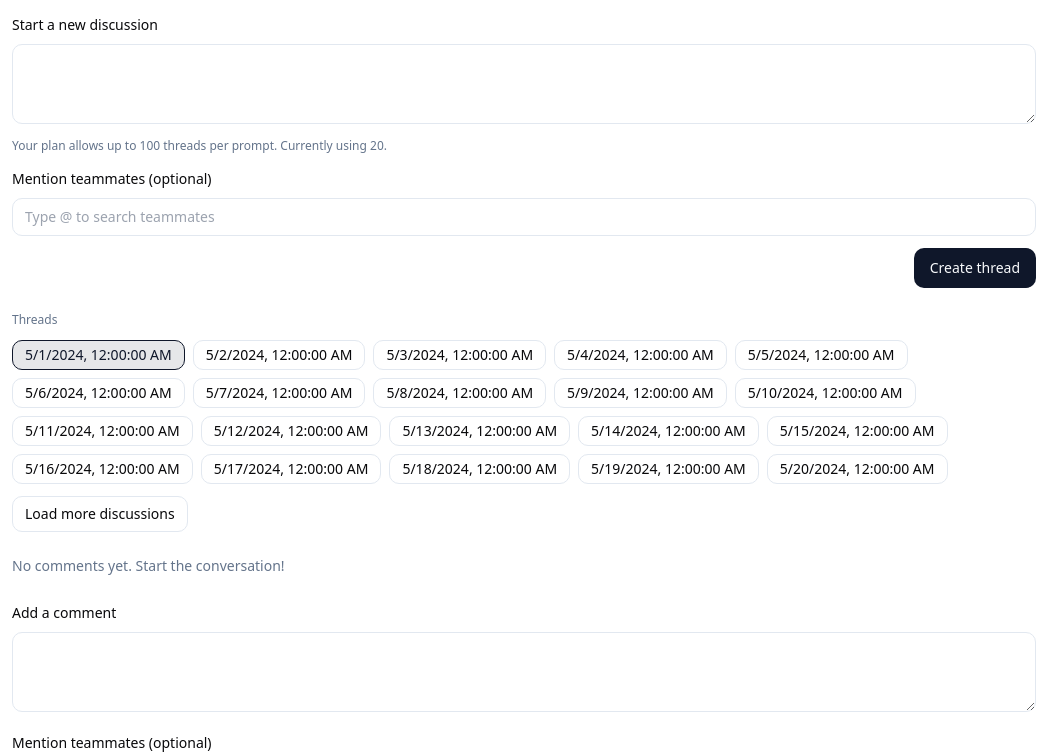
Test: PromptCommentsPanel - pagination › fetches the next page of discussions when Load more discussions is clicked
Click the button "Load more discussions" at [100, 514], box [12,496,188,532]
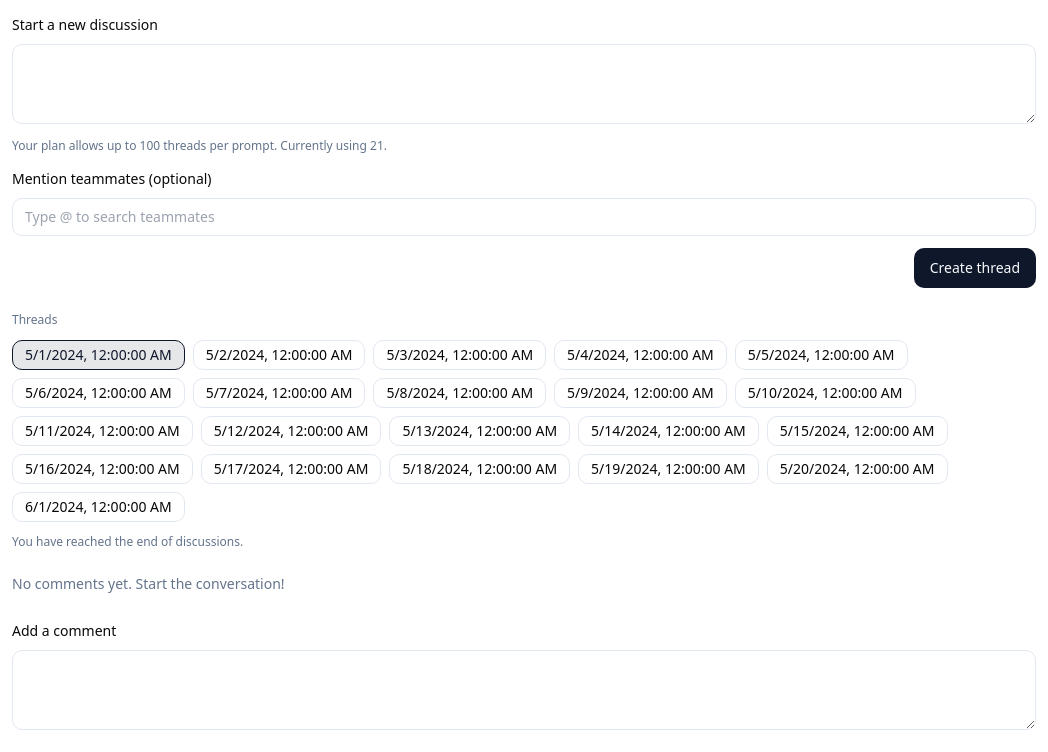
Now the button "Load more discussions" is gone
Now the text "You have reached the end of discussions." is shown, box [12,533,243,550]
